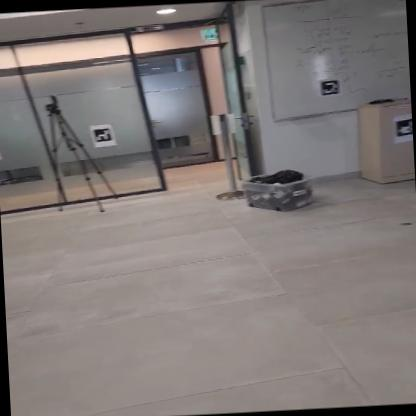open: (155, 46, 233, 193)
